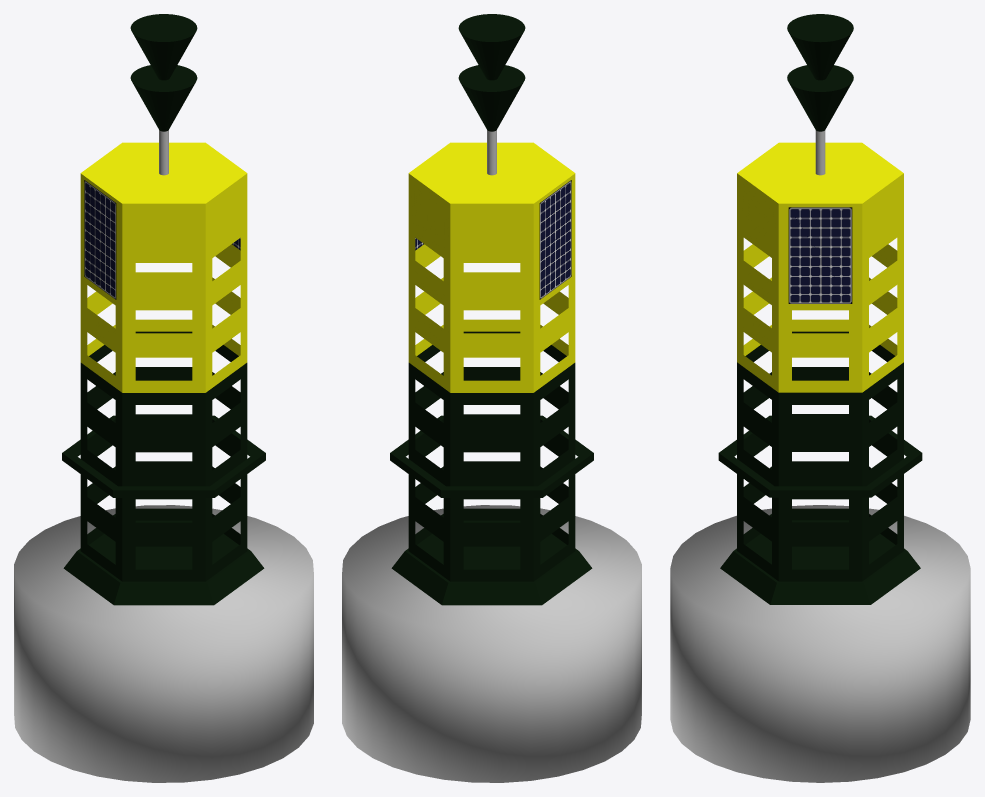
File: Boy-South.gltf
3 views of the same model, side by side, from view 1: azimuth 30°, elevation 25°; view 2: azimuth 150°, elevation 25°; view 3: azimuth 270°, elevation 25° (orthographic).
Visible parts, largest first — view 1: Cylinder.001, Cylinder, Cylinder.002, Cylinder.003, Plane.001, Cone 2.001, Cone 2.002; view 2: Cylinder.001, Cylinder, Cylinder.002, Cylinder.003, Plane.001, Cone 2.001, Cone 2.002; view 3: Cylinder.001, Cylinder, Cylinder.002, Plane, Cylinder.003, Cone 2.001, Cone 2.002.
Part boxes in pixels (x1=…): Cylinder.001: x1=14, y1=505, x2=313, y2=782; Cylinder: x1=80, y1=142, x2=247, y2=581; Cylinder.002: x1=63, y1=520, x2=264, y2=605; Cylinder.003: x1=62, y1=415, x2=265, y2=497; Plane.001: x1=84, y1=180, x2=116, y2=299; Cone 2.001: x1=130, y1=14, x2=197, y2=80; Cone 2.002: x1=130, y1=65, x2=197, y2=131; Cylinder.001: x1=342, y1=505, x2=641, y2=782; Cylinder: x1=408, y1=142, x2=575, y2=581; Cylinder.002: x1=391, y1=520, x2=592, y2=605; Cylinder.003: x1=390, y1=415, x2=593, y2=497; Plane.001: x1=539, y1=180, x2=571, y2=299; Cone 2.001: x1=458, y1=14, x2=525, y2=80; Cone 2.002: x1=458, y1=65, x2=525, y2=131; Cylinder.001: x1=670, y1=505, x2=970, y2=782; Cylinder: x1=737, y1=142, x2=903, y2=581; Cylinder.002: x1=720, y1=520, x2=920, y2=604; Plane: x1=788, y1=207, x2=852, y2=303; Cylinder.003: x1=718, y1=415, x2=922, y2=497; Cone 2.001: x1=787, y1=14, x2=853, y2=80; Cone 2.002: x1=787, y1=65, x2=853, y2=131.
Size of the model in its own units: 1.8 by 4.57 by 1.8.
4 materials, 1 textured.
